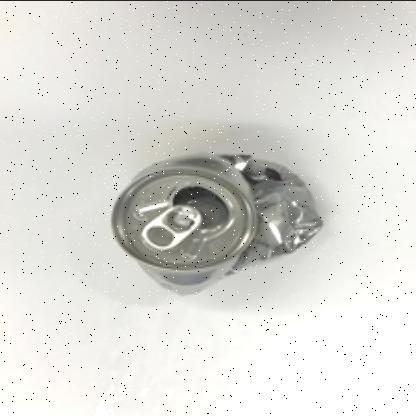Can: (111, 152, 324, 272)
